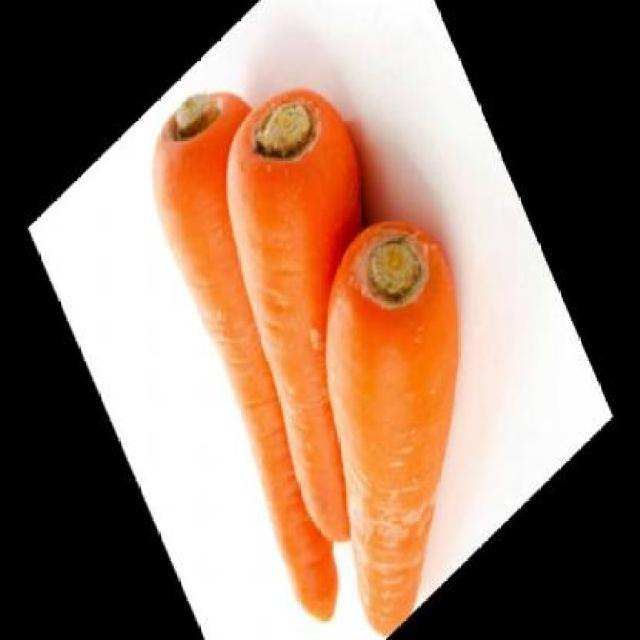carrot: (110, 52, 427, 632), (168, 47, 472, 556), (245, 174, 543, 638)
